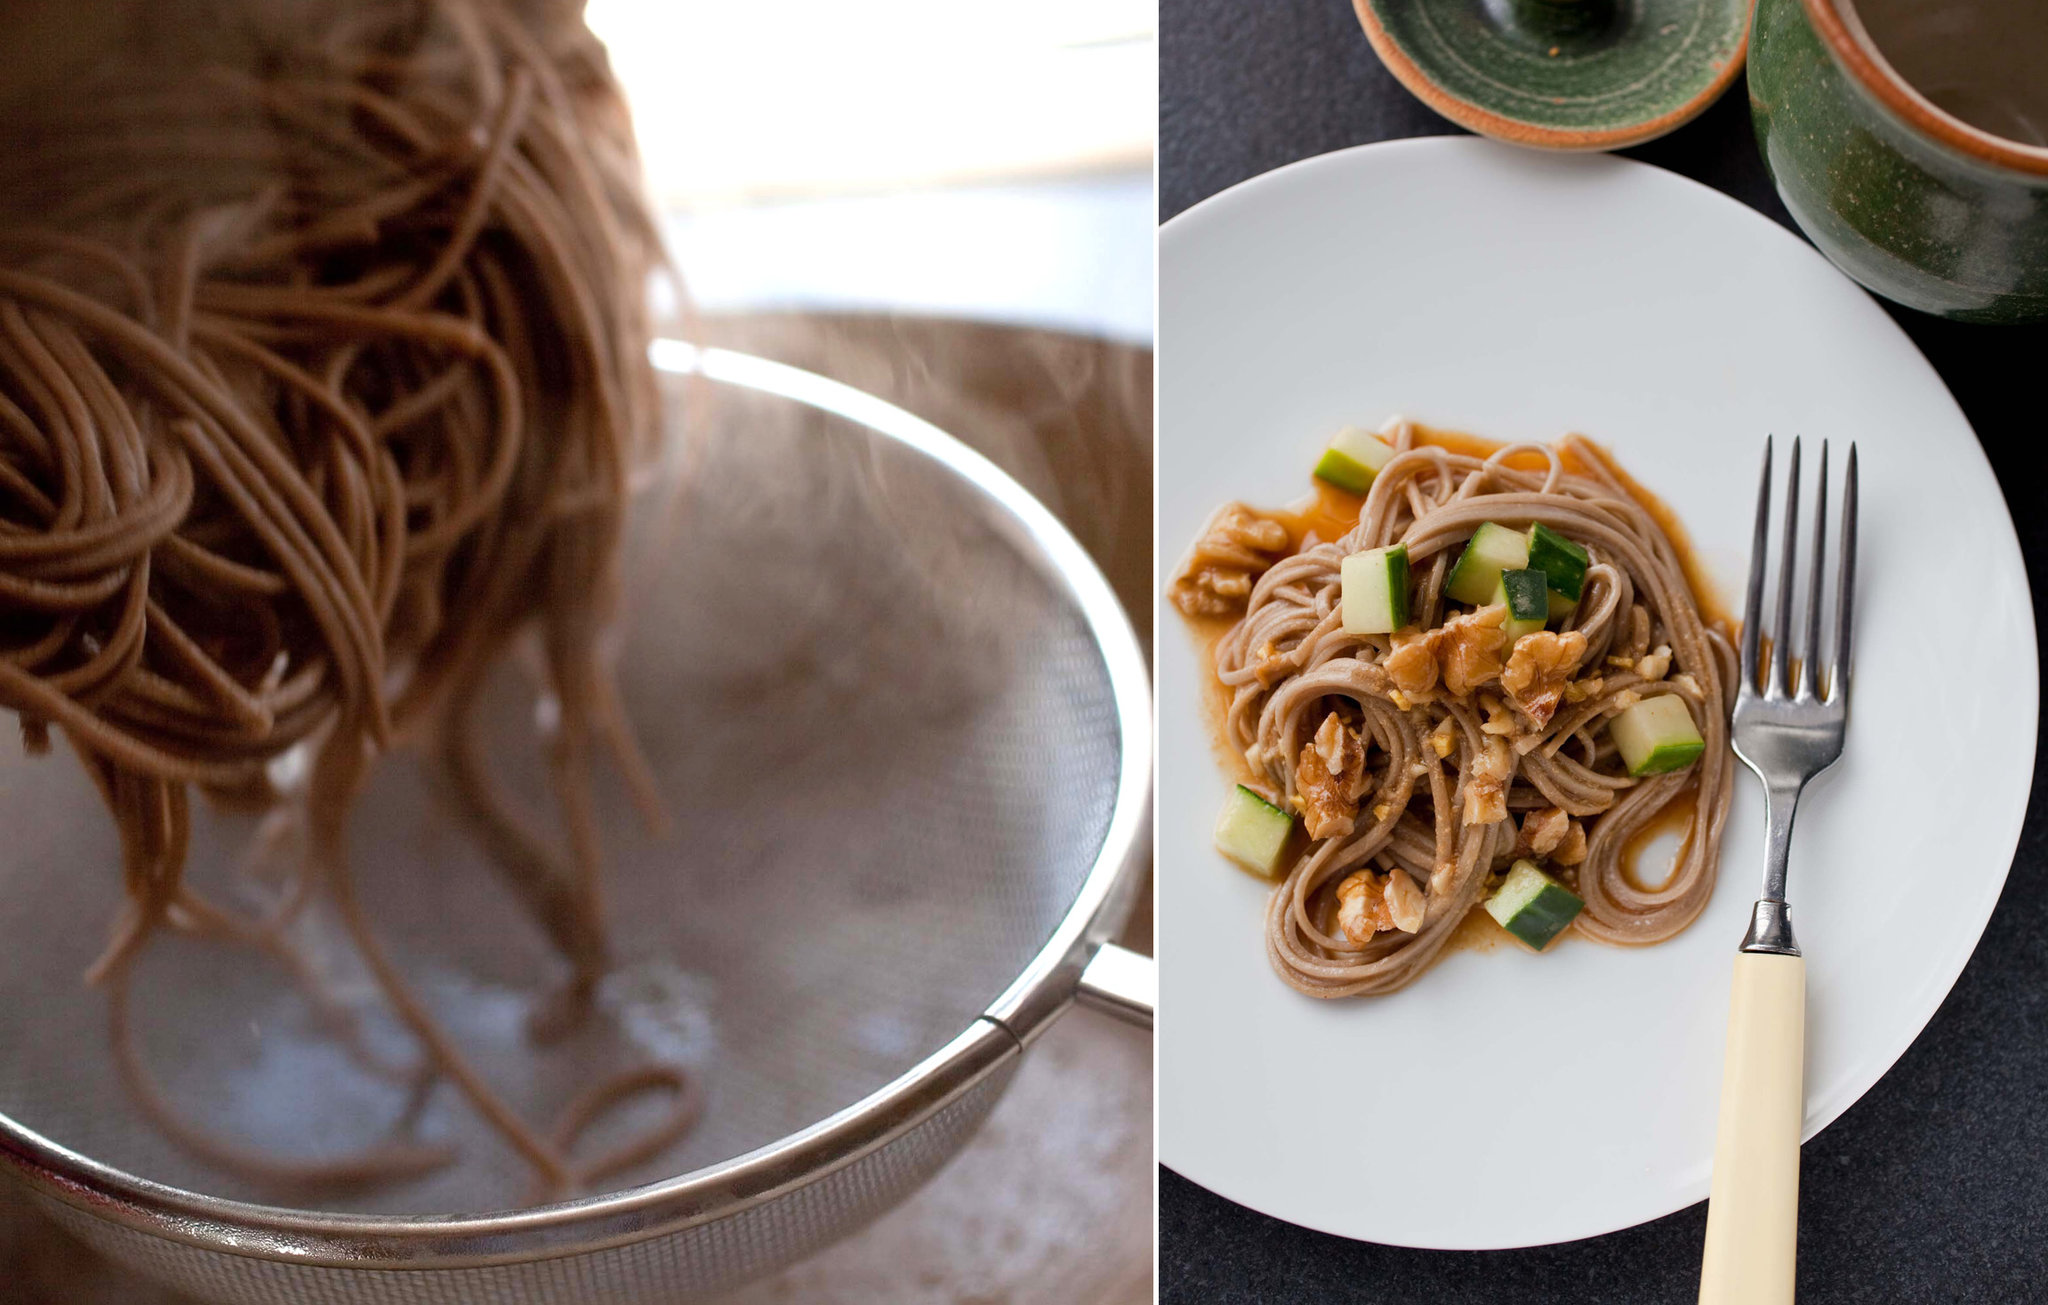Soba: (67, 1, 693, 982), (1181, 408, 1736, 1006)
